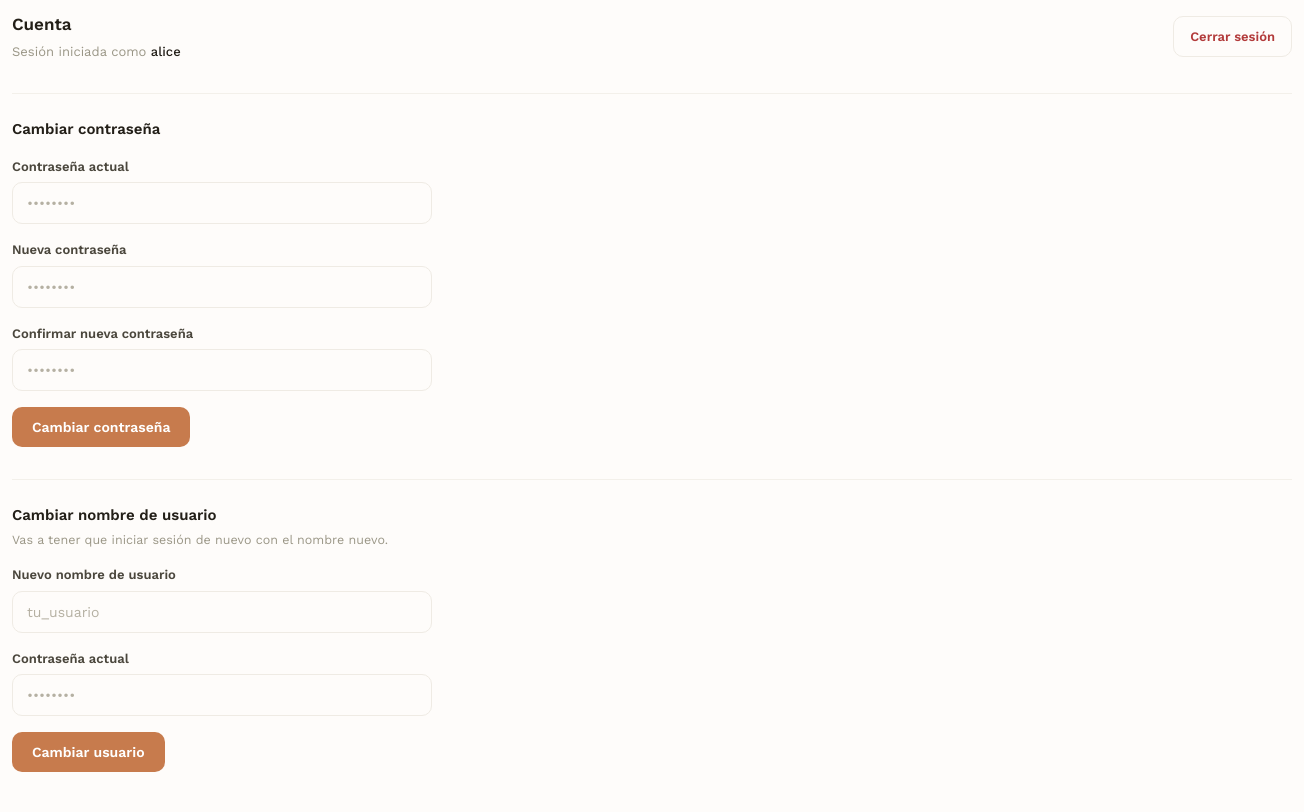
Test: CuentaTab › submits the change-username form and shows an error message
In the field with placeholder "tu_usuario": (222, 612) [12,591,432,633], type "bob"
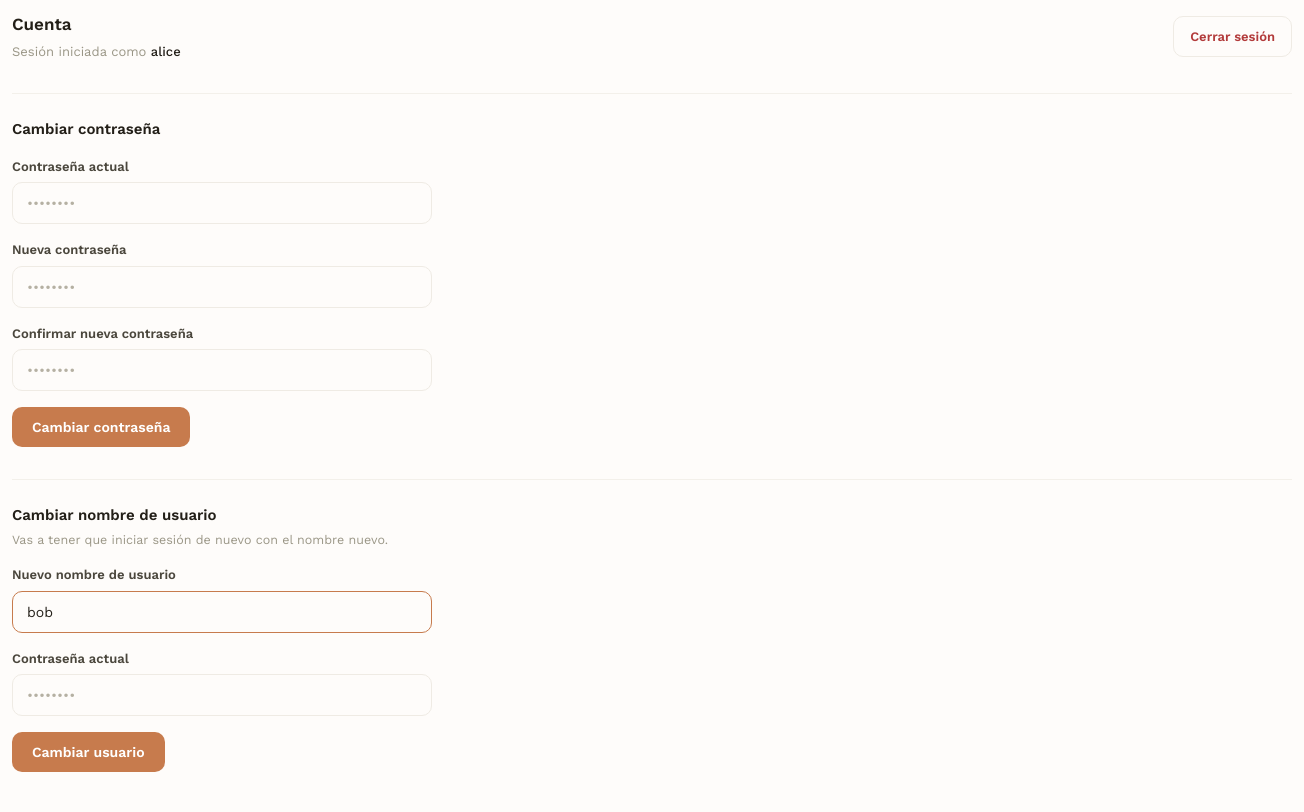
In the password field with placeholder "••••••••" below "Nuevo nombre de usuario": (222, 695) [12,674,432,716], type "current"
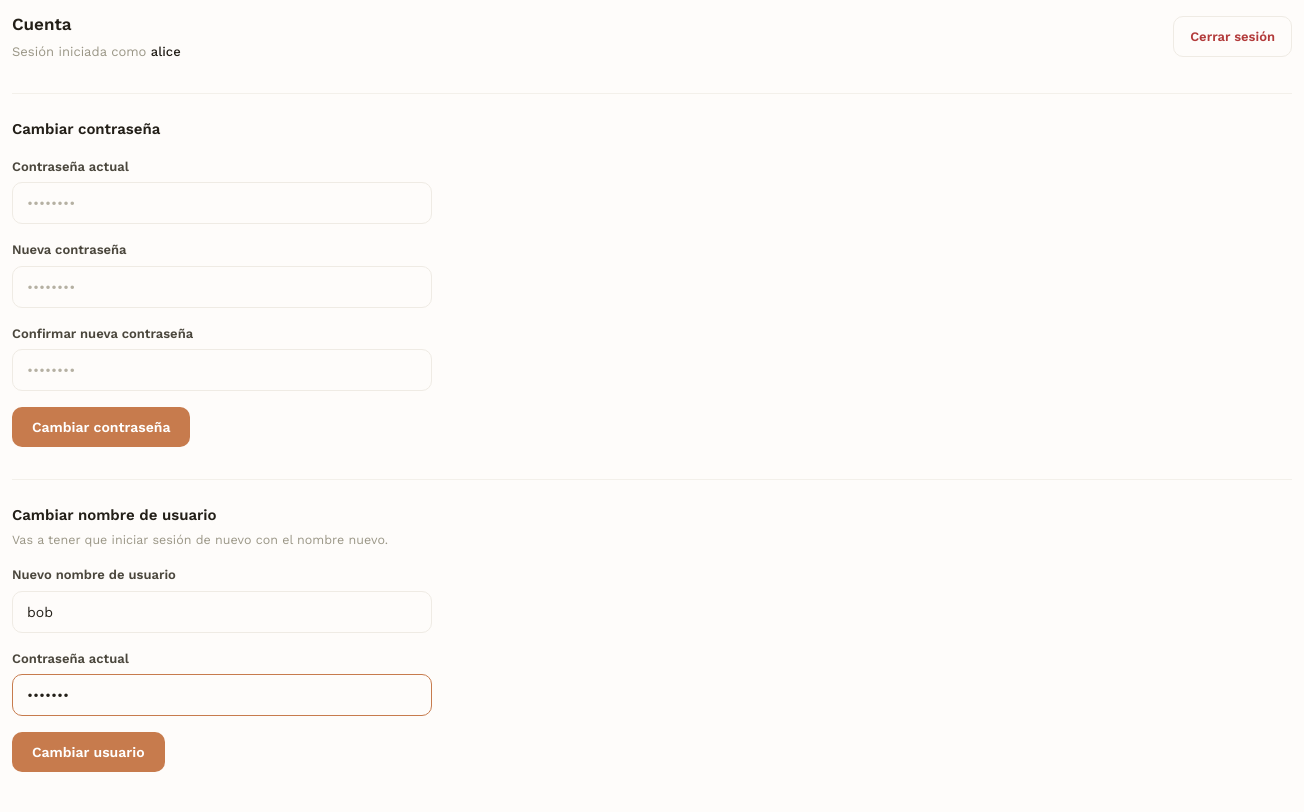
Click the button "Cambiar usuario": (88, 752) [12,732,164,772]
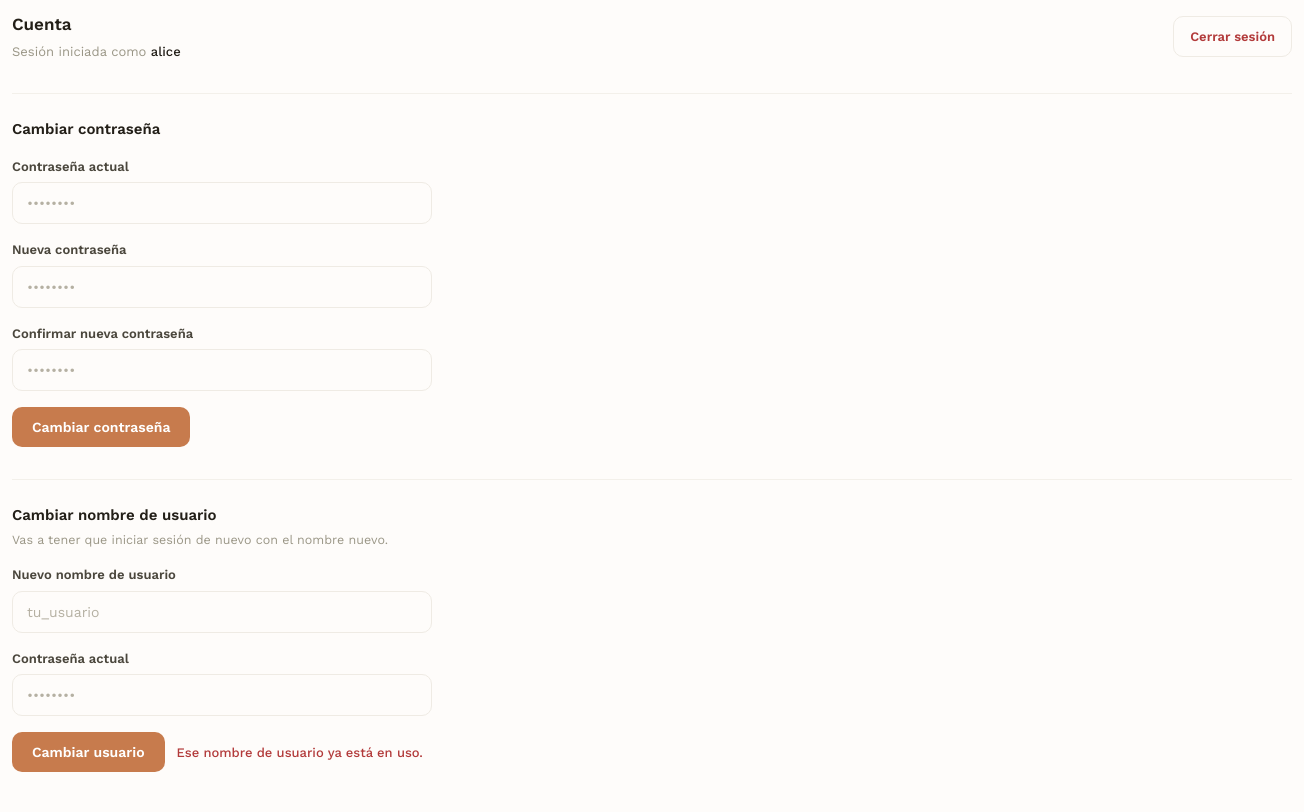
Expected: the text "Ese nombre de usuario ya está en uso." is shown, [176,742,423,762]
